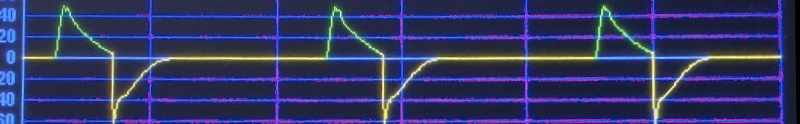normal_flow: (30, 0, 786, 124)
